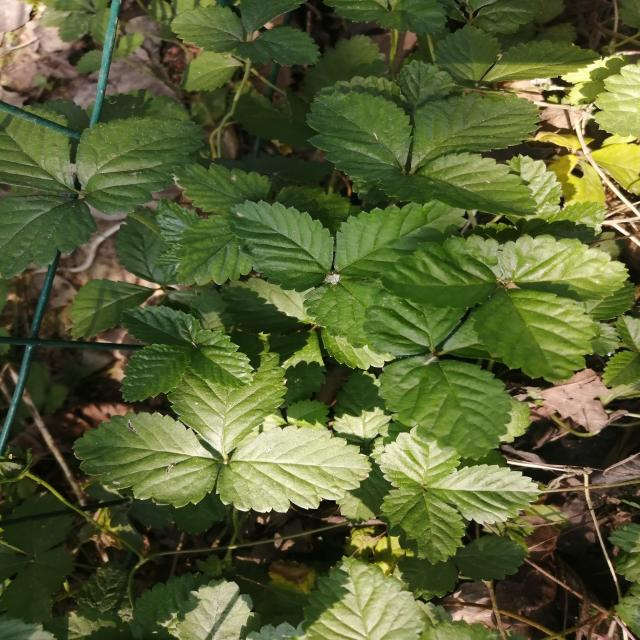Mock_strawberry: (212, 182, 585, 430), (52, 322, 392, 531), (310, 61, 572, 232)
